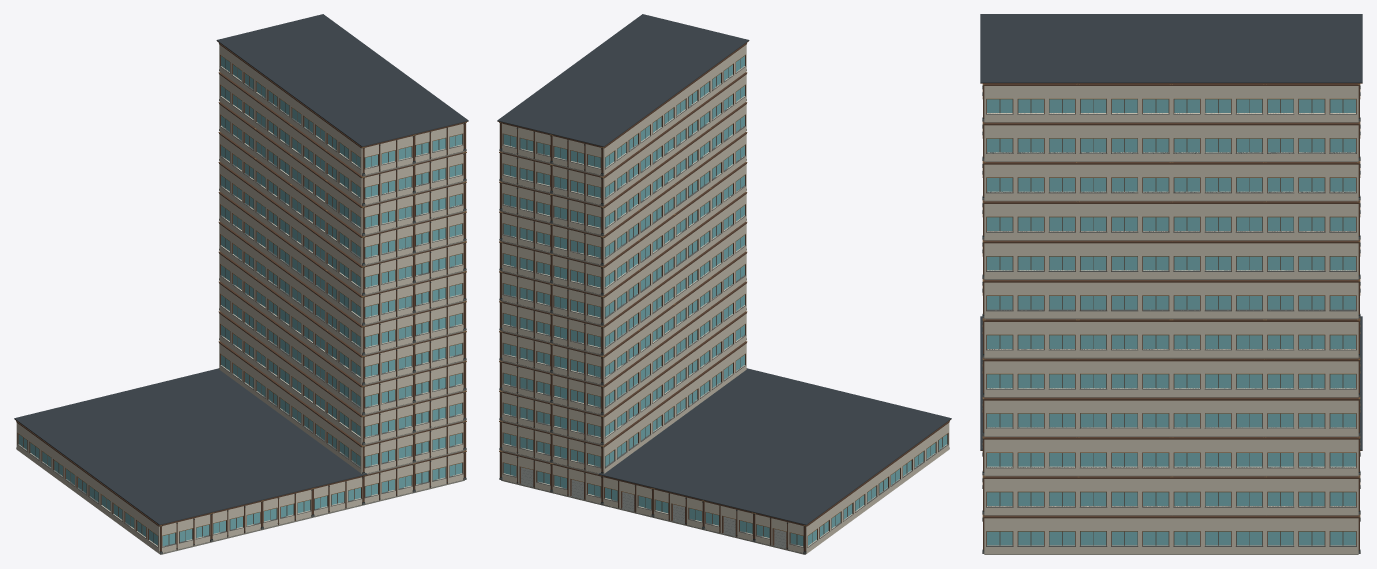
3 views of the same model, side by side, from view 1: azimuth 30°, elevation 25°; view 2: azimuth 150°, elevation 25°; view 3: azimuth 270°, elevation 25° (orthographic). The views are drawn at different scales.
Visible parts, largest first — view 1: 参数墙 · 独立窗玻璃 (×76), 连续屋面 · flat (×2); view 2: 参数墙 · 独立窗玻璃 (×70), 连续屋面 · flat (×2), 参数墙 · 通行门洞 (×6); view 3: 参数墙 · 独立窗玻璃 (×48), 连续屋面 · flat (×2).
Part boxes in pixels (x1,y1,x2,y2): 参数墙 · 独立窗玻璃 (×76): (16, 43, 464, 553); 连续屋面 · flat (×2): (14, 14, 468, 525); 参数墙 · 独立窗玻璃 (×70): (502, 43, 949, 553); 连续屋面 · flat (×2): (497, 14, 951, 525); 参数墙 · 通行门洞 (×6): (501, 451, 803, 552); 参数墙 · 独立窗玻璃 (×48): (984, 83, 1358, 554); 连续屋面 · flat (×2): (980, 14, 1362, 450).
Bounding box in the file's own units: 47.6 × 53.12 × 38.8.
15 materials, 15 textured.
